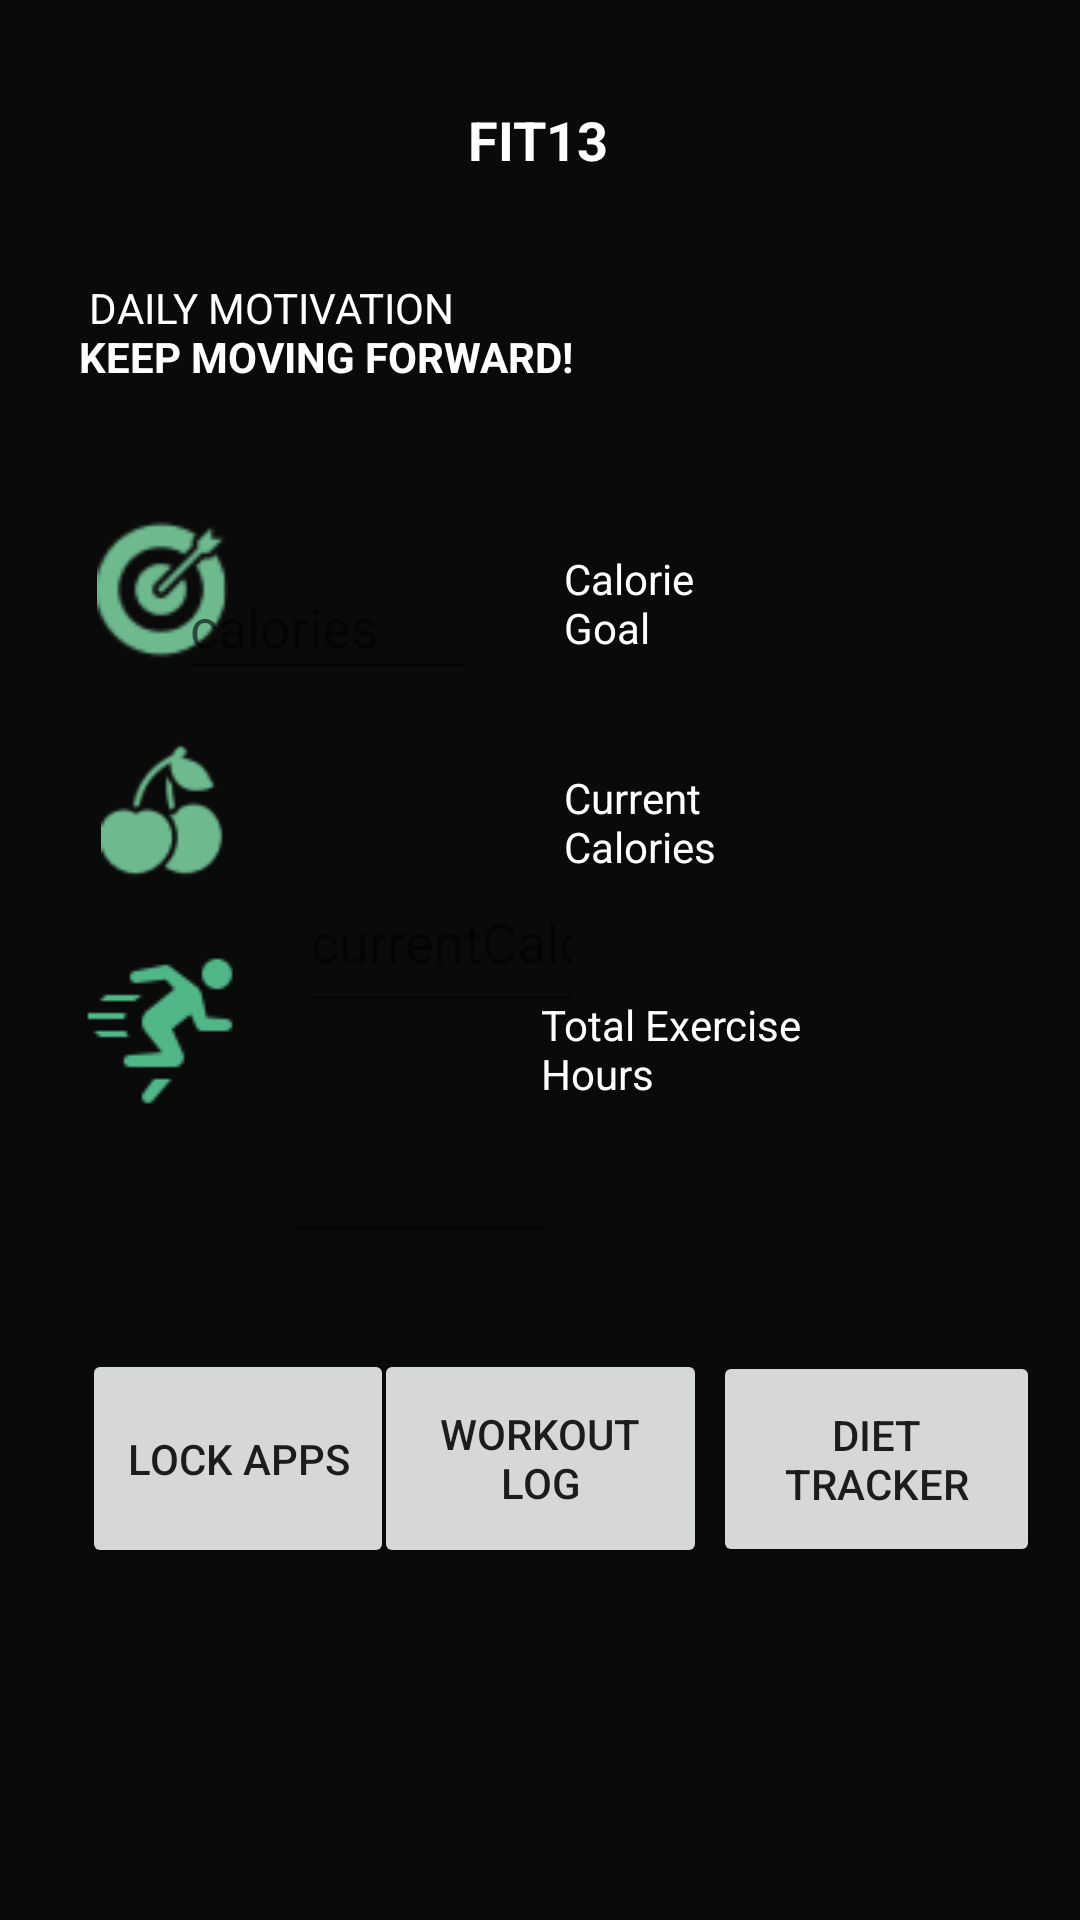

Named icons in this screenshot (1080*1920) and their centers, (x=x, y=y):
cherry: (x=162, y=810)
exercise: (x=160, y=1031)
goal: (x=161, y=589)
